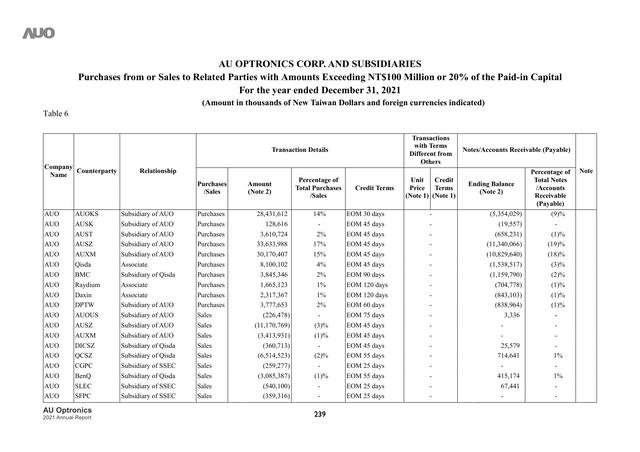box: (41, 131, 598, 405)
